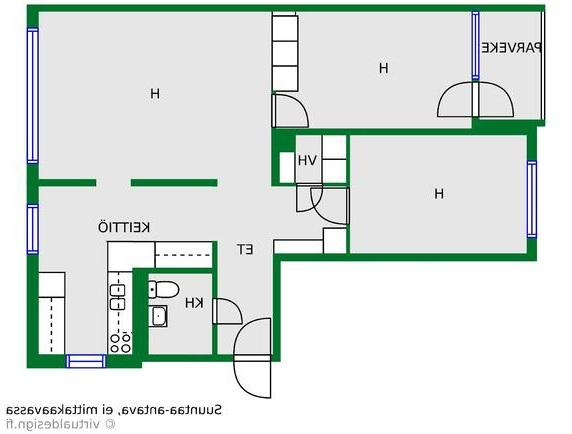bathroom: (147, 271, 212, 356)
door: (232, 355, 275, 401), (471, 80, 517, 119), (308, 187, 354, 225), (268, 92, 313, 130), (434, 80, 480, 117), (234, 316, 272, 358), (211, 297, 246, 328), (296, 183, 326, 218)
perimeter: (25, 4, 535, 368)
window: (24, 24, 42, 170), (526, 156, 540, 243), (23, 200, 41, 258), (469, 8, 483, 82), (61, 352, 113, 369)
